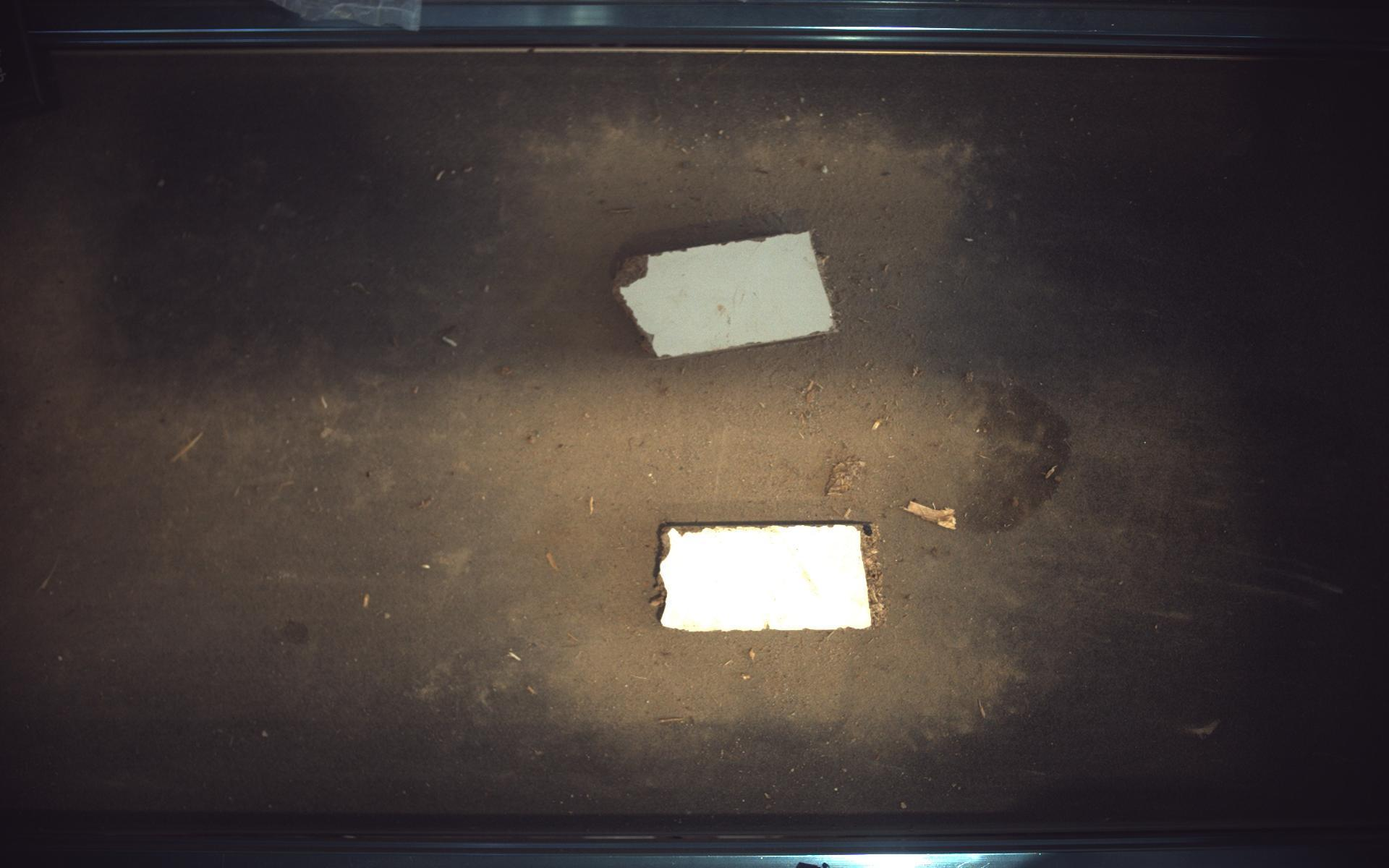wood: (616, 231, 836, 357), (653, 522, 886, 633)
